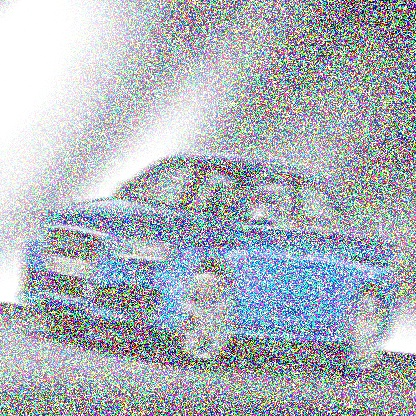Vehicle: (18, 142, 400, 387)
